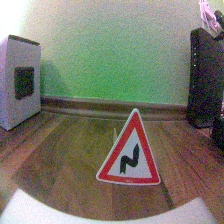vorsicht: (94, 106, 163, 187)
